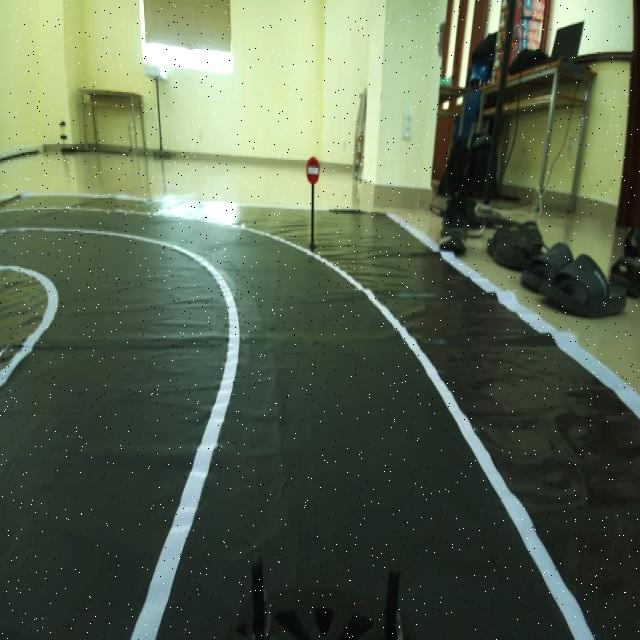no_entry: (302, 153, 324, 186)
